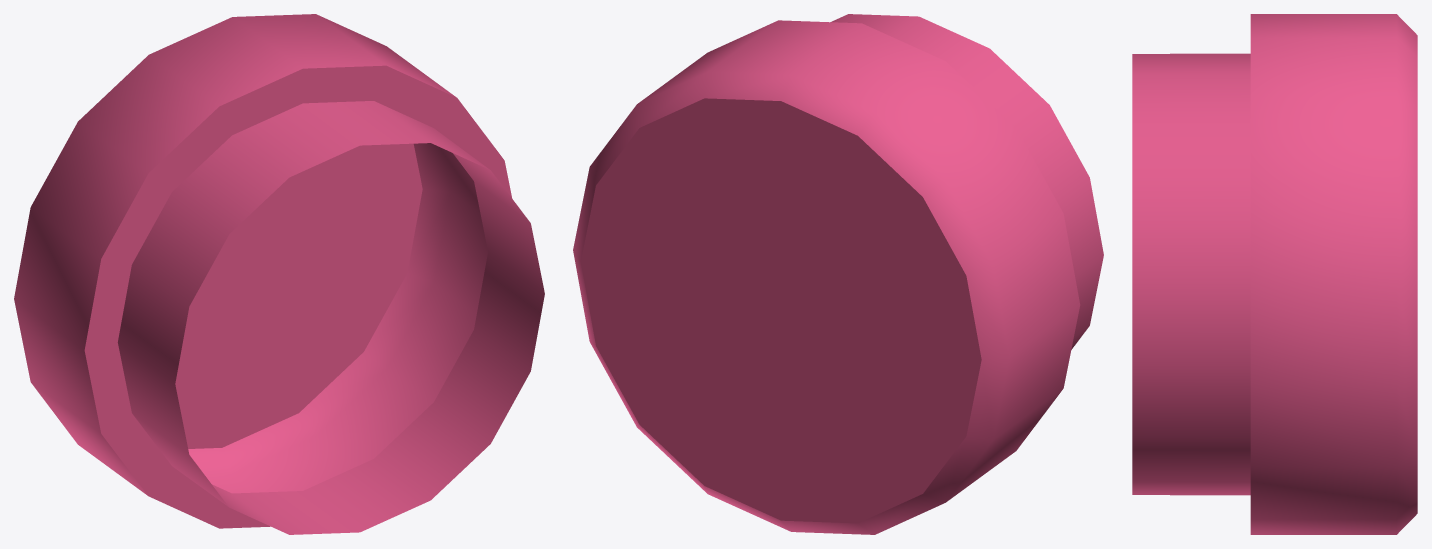
Rendered from Button1.fbx.
3 views of the same model, side by side, from view 1: azimuth 30°, elevation 25°; view 2: azimuth 150°, elevation 25°; view 3: azimuth 270°, elevation 25° (orthographic). The views are drawn at different scales.
Visible parts, largest first — view 1: MainBoardRoundButton; view 2: MainBoardRoundButton; view 3: MainBoardRoundButton.
Boxes of the visible parts, left/top/right/bottom form: MainBoardRoundButton: left=14, top=14, right=544, bottom=534; MainBoardRoundButton: left=573, top=14, right=1103, bottom=534; MainBoardRoundButton: left=1132, top=14, right=1417, bottom=534.
Bounding box in the file's own units: 1.69 × 1.69 × 0.9266.
